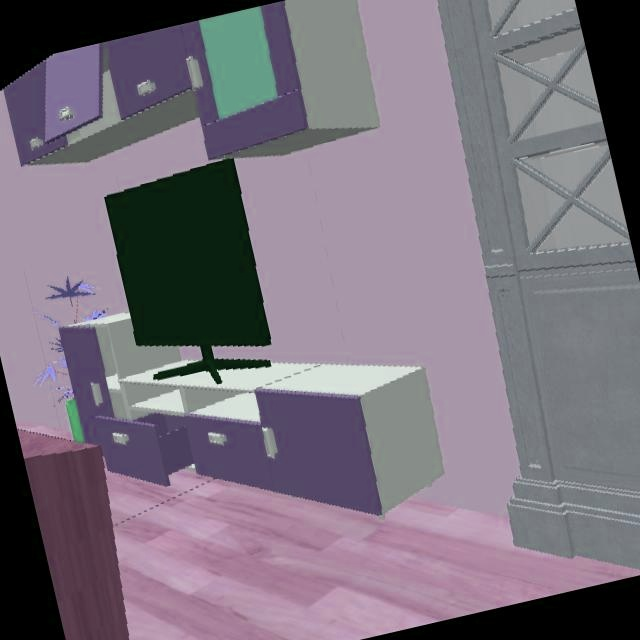bookshelf: (436, 0, 640, 570)
cabinet: (59, 314, 445, 518), (3, 0, 309, 167)
monitor: (104, 159, 270, 361)
